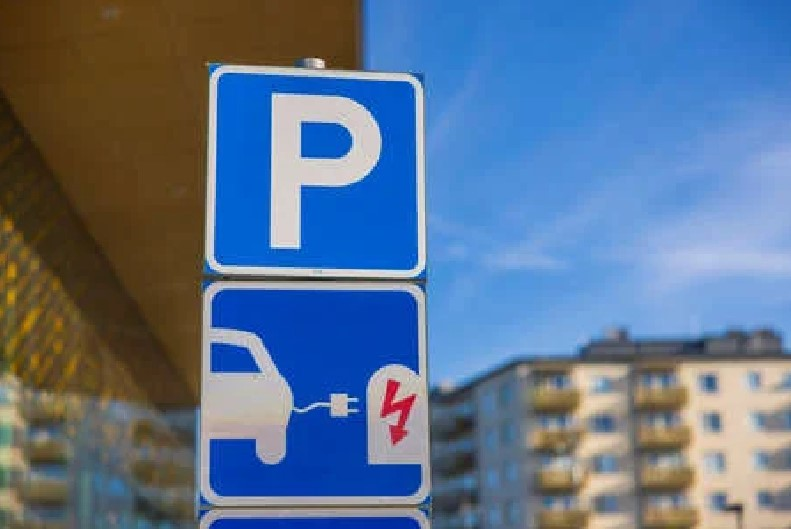Parking: (202, 59, 428, 285)
